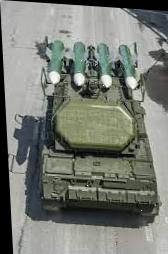rszo: (11, 33, 168, 230)
